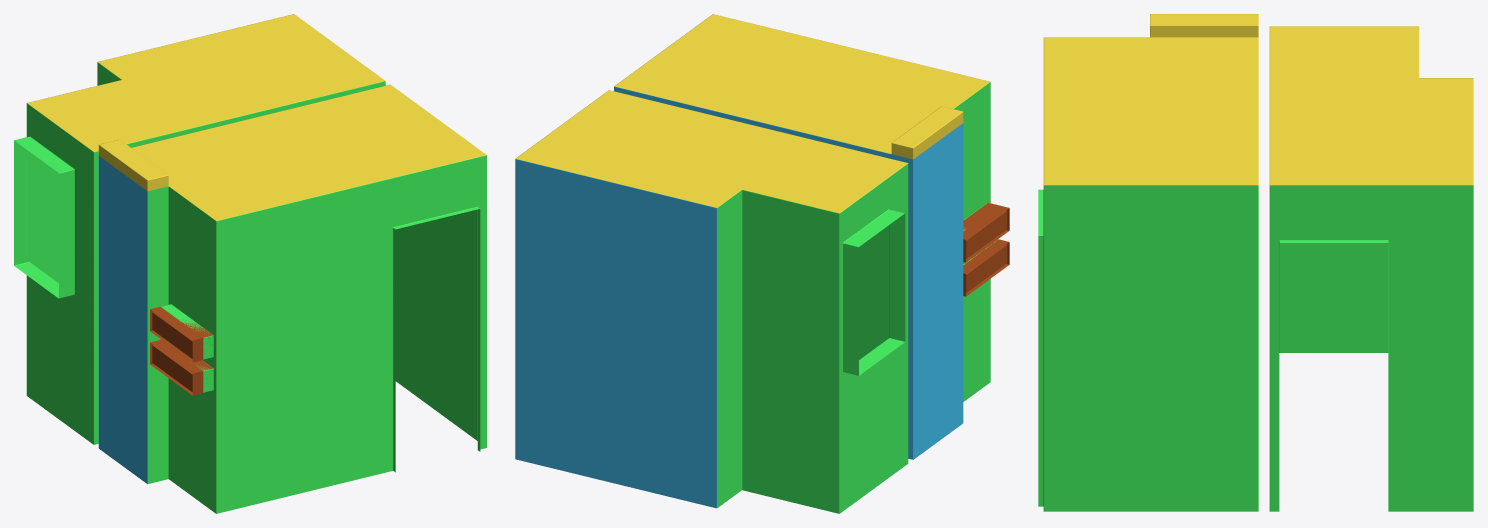
The model's file is Apartment_Bathroom.FBX.
The picture shows the model from 3 angles, left to right: view 1: azimuth 30°, elevation 25°; view 2: azimuth 150°, elevation 25°; view 3: azimuth 270°, elevation 25°; orthographic projection. The views are drawn at different scales.
Parts seen in each view (by area): view 1: Wall_Bathroom_Bedroom, Wall_Bathroom_Main, Wall_Bathroom_Shelf1, Wall_Bathroom_Shelf2; view 2: Wall_Bathroom_Main, Wall_Bathroom_Bedroom, Wall_Bathroom_Shelf1, Wall_Bathroom_Shelf2; view 3: Wall_Bathroom_Bedroom, Wall_Bathroom_Main.
Part boxes in pixels (box(x1,y1,x2,y2)): Wall_Bathroom_Bedroom: box(98, 84, 486, 513); Wall_Bathroom_Main: box(14, 14, 385, 444); Wall_Bathroom_Shelf1: box(150, 306, 213, 362); Wall_Bathroom_Shelf2: box(150, 339, 213, 395); Wall_Bathroom_Main: box(515, 90, 908, 513); Wall_Bathroom_Bedroom: box(614, 14, 996, 459); Wall_Bathroom_Shelf1: box(963, 202, 1009, 262); Wall_Bathroom_Shelf2: box(963, 239, 1009, 296); Wall_Bathroom_Bedroom: box(1038, 14, 1258, 511); Wall_Bathroom_Main: box(1269, 26, 1473, 511).
Size of the model in its own units: 2.95 by 2.75 by 3.2.
